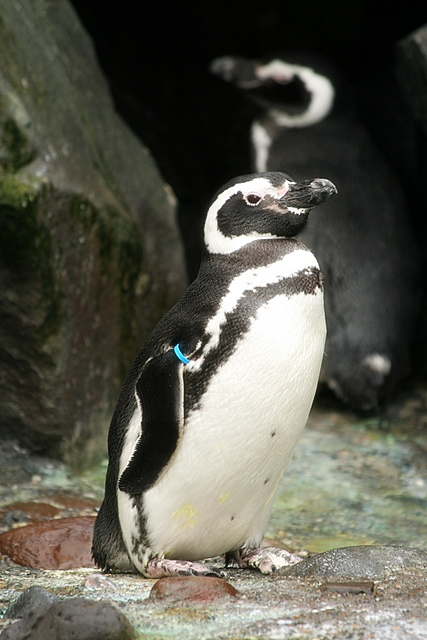penguin: (99, 168, 339, 587)
